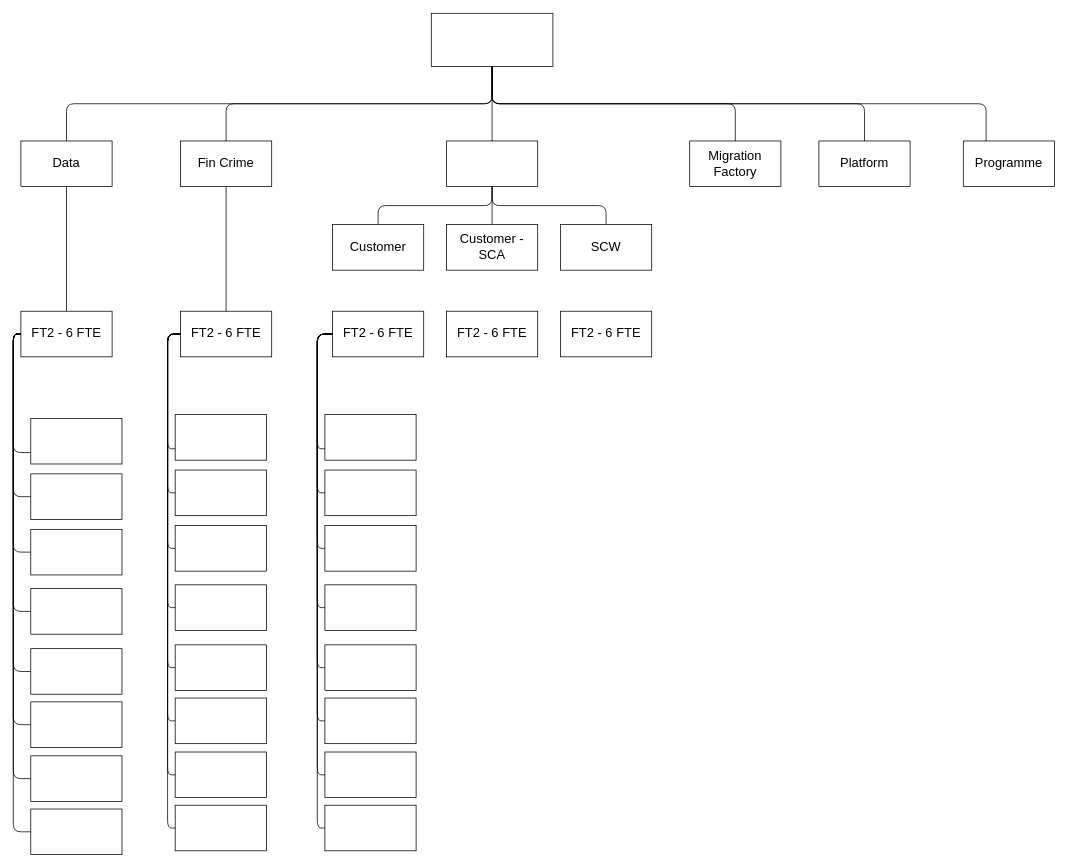
The diagram is 1068 pixels wide and 868 high, and some of its shapes have lost their labels. Here are the shapes that lost their labels. From the top down, the centre of each, then its label:
At [492,39]: "E+ Offshore Team".
At [492,163]: "Journey Team".
